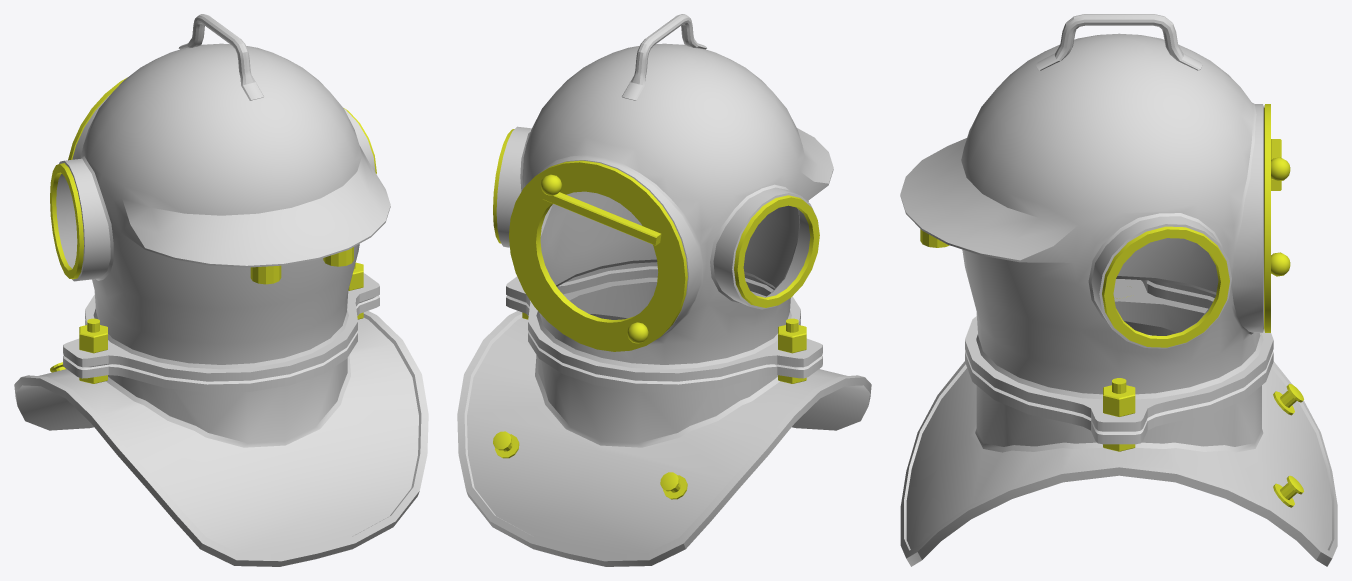
Rendered from SM_DivingHelmet.fbx.
The picture shows the model from 3 angles, left to right: view 1: azimuth 30°, elevation 25°; view 2: azimuth 150°, elevation 25°; view 3: azimuth 270°, elevation 25°; orthographic projection. The views are drawn at different scales.
Visible parts, largest first — view 1: DivingHelmet; view 2: DivingHelmet; view 3: DivingHelmet.
Part boxes in pixels (x1,y1,x2,y2): DivingHelmet: (14, 14, 428, 566); DivingHelmet: (457, 14, 871, 566); DivingHelmet: (900, 14, 1337, 566).
Bounding box in the file's own units: 51.98 × 73.85 × 56.22.
